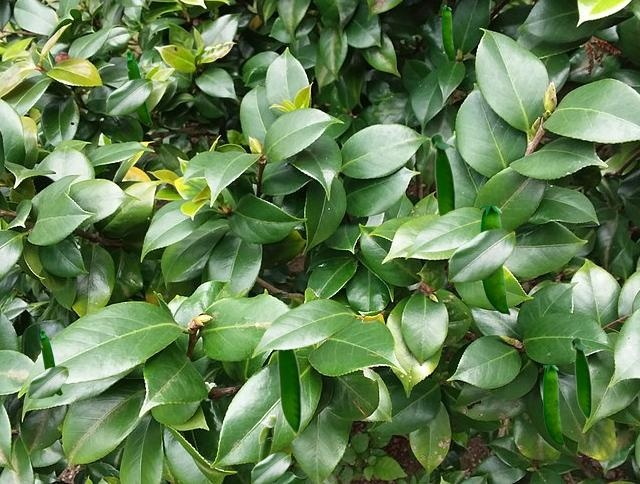pea: (480, 206, 509, 315), (275, 350, 301, 437), (429, 132, 455, 215), (126, 50, 151, 125), (570, 336, 591, 421), (543, 365, 563, 445), (40, 329, 61, 394), (258, 414, 276, 461), (442, 7, 454, 58)
